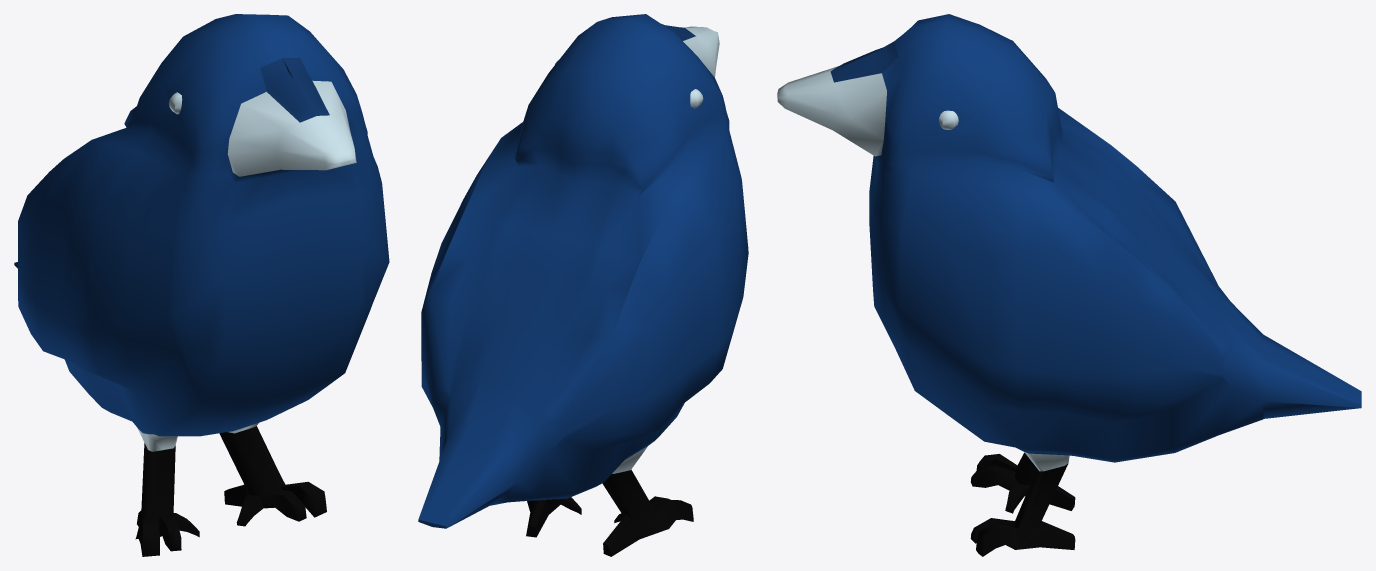
The model's file is Crow_Textured.fbx.
The picture shows the model from 3 angles, left to right: view 1: azimuth 30°, elevation 25°; view 2: azimuth 150°, elevation 25°; view 3: azimuth 270°, elevation 25°; orthographic projection. The views are drawn at different scales.
Parts seen in each view (by area): view 1: Plane; view 2: Plane; view 3: Plane.
Boxes of the visible parts, <box> form: Plane: <box>14,14,389,556</box>; Plane: <box>418,14,748,556</box>; Plane: <box>777,14,1361,556</box>.
Size of the model in its own units: 65.08 by 121 by 126.
